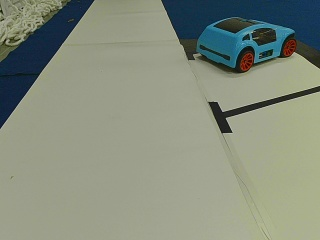car: (196, 19, 296, 72)
